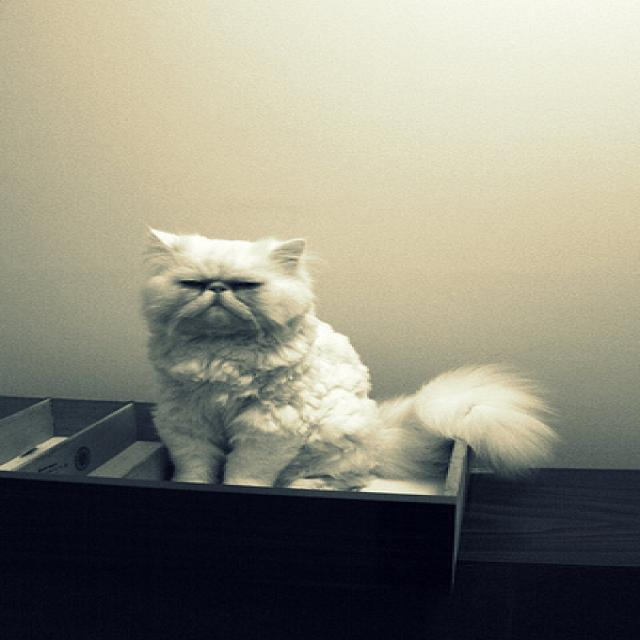Persian: (134, 224, 560, 499)
